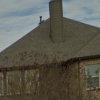Chimney: (40, 0, 76, 42)
